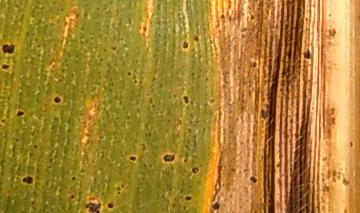tarspot: (83, 201, 103, 213), (1, 43, 16, 56), (21, 175, 34, 186), (52, 94, 63, 106), (210, 200, 222, 211), (162, 153, 175, 163), (302, 48, 312, 60), (248, 175, 258, 185), (16, 109, 25, 119), (190, 166, 199, 176), (260, 108, 268, 119), (181, 95, 189, 104), (183, 195, 193, 202), (181, 41, 189, 49), (128, 155, 137, 162), (1, 64, 9, 71), (220, 13, 227, 21), (106, 202, 114, 209), (69, 175, 77, 182), (32, 143, 39, 151), (193, 34, 199, 43), (69, 193, 76, 200), (109, 45, 116, 52), (132, 78, 138, 86), (1, 116, 7, 124), (348, 140, 354, 148), (126, 71, 132, 78), (48, 157, 53, 163)
